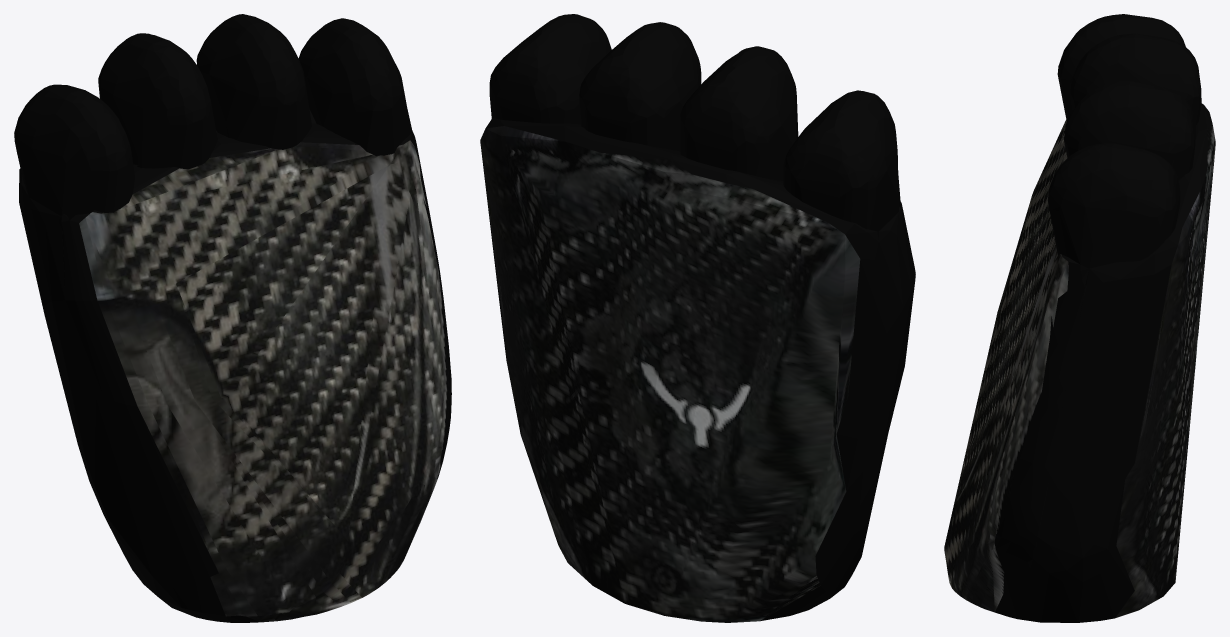
The model's file is FB_palm_ref_lp.glb.
3 renders of one model, left to right at view 1: azimuth 30°, elevation 25°; view 2: azimuth 150°, elevation 25°; view 3: azimuth 270°, elevation 25°, orthographic. The views are drawn at different scales.
Visible parts, largest first — view 1: FB_palm_ref; view 2: FB_palm_ref; view 3: FB_palm_ref.
Boxes of the visible parts, bbox=[...] form: FB_palm_ref: bbox=[14, 14, 451, 622]; FB_palm_ref: bbox=[480, 14, 915, 622]; FB_palm_ref: bbox=[944, 14, 1215, 622].
Size of the model in its own units: 0.0815 by 0.1106 by 0.053.
1 material, 1 textured.
